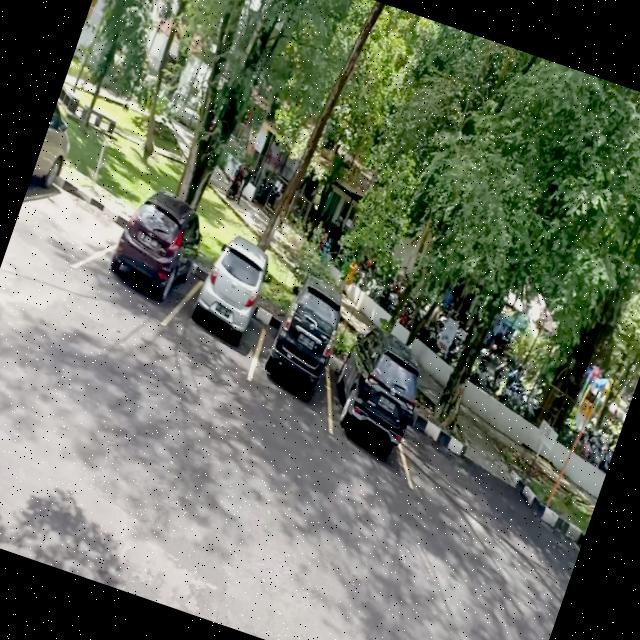occupied: (310, 335, 439, 465), (90, 206, 204, 330), (170, 244, 287, 363), (244, 300, 354, 416)
